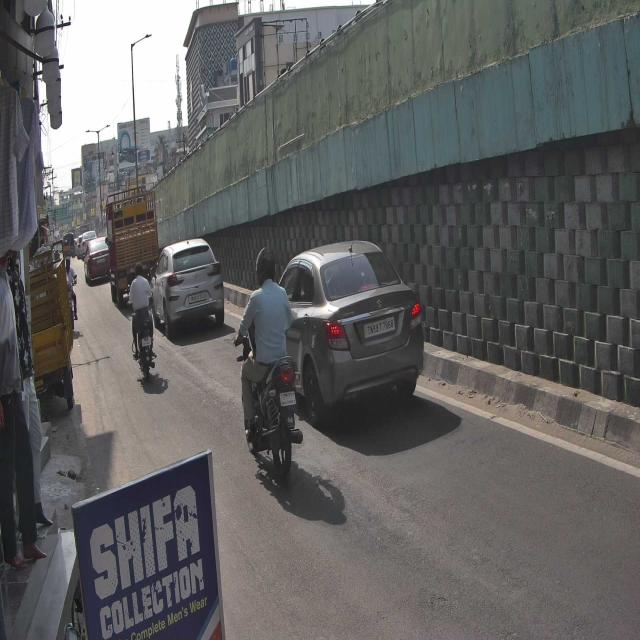single_rider: (232, 242, 306, 491)
